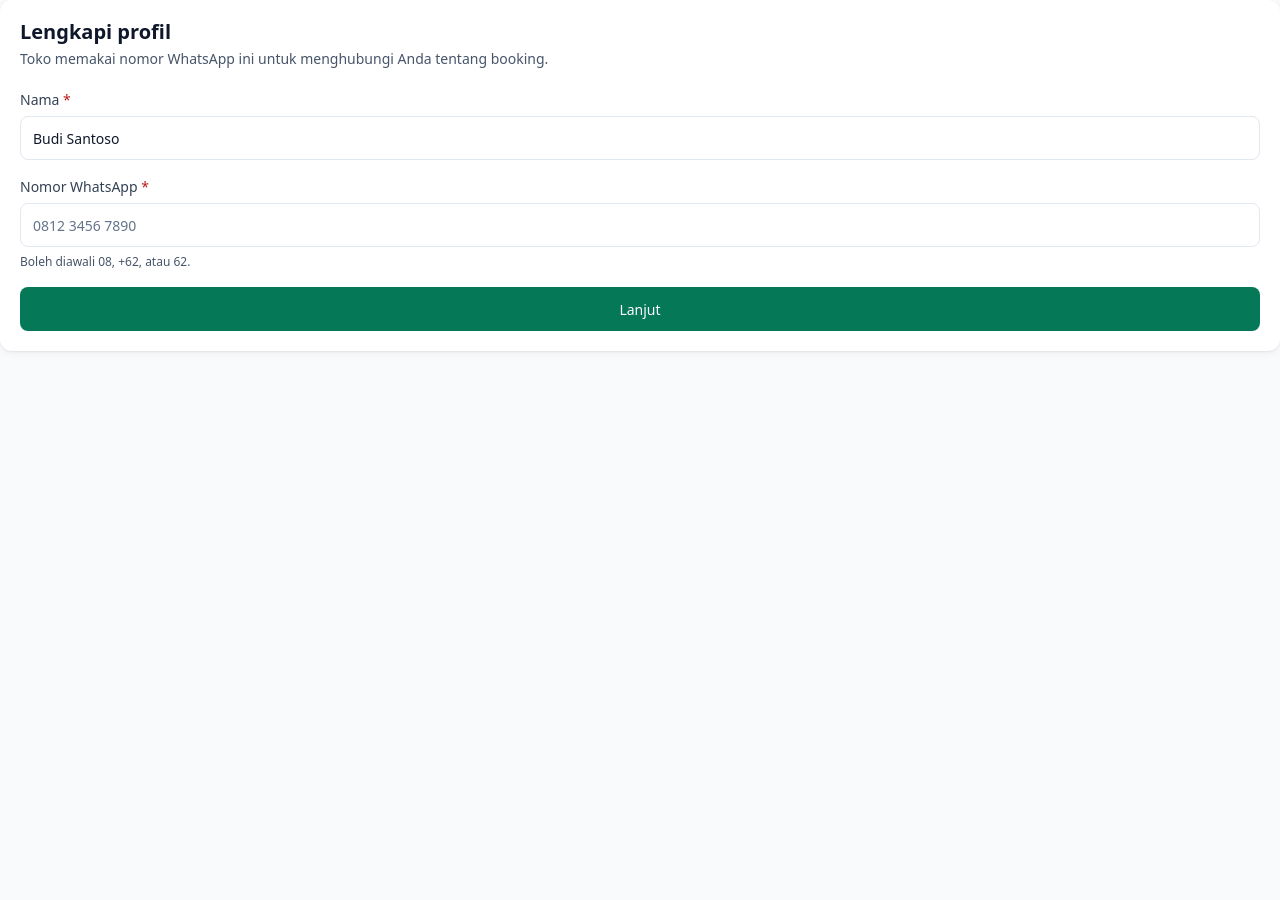
Scenario: lengkapi profil › nomor dipakai akun lain menampilkan peringatan dengan tombol WhatsApp toko
Expected: the field labelled "Nama *" holds "Budi Santoso", [20, 116, 1260, 160]
Type "0812 0000 1001" into the field labelled "Nomor WhatsApp *" at point(640, 225), box [20, 203, 1260, 247]
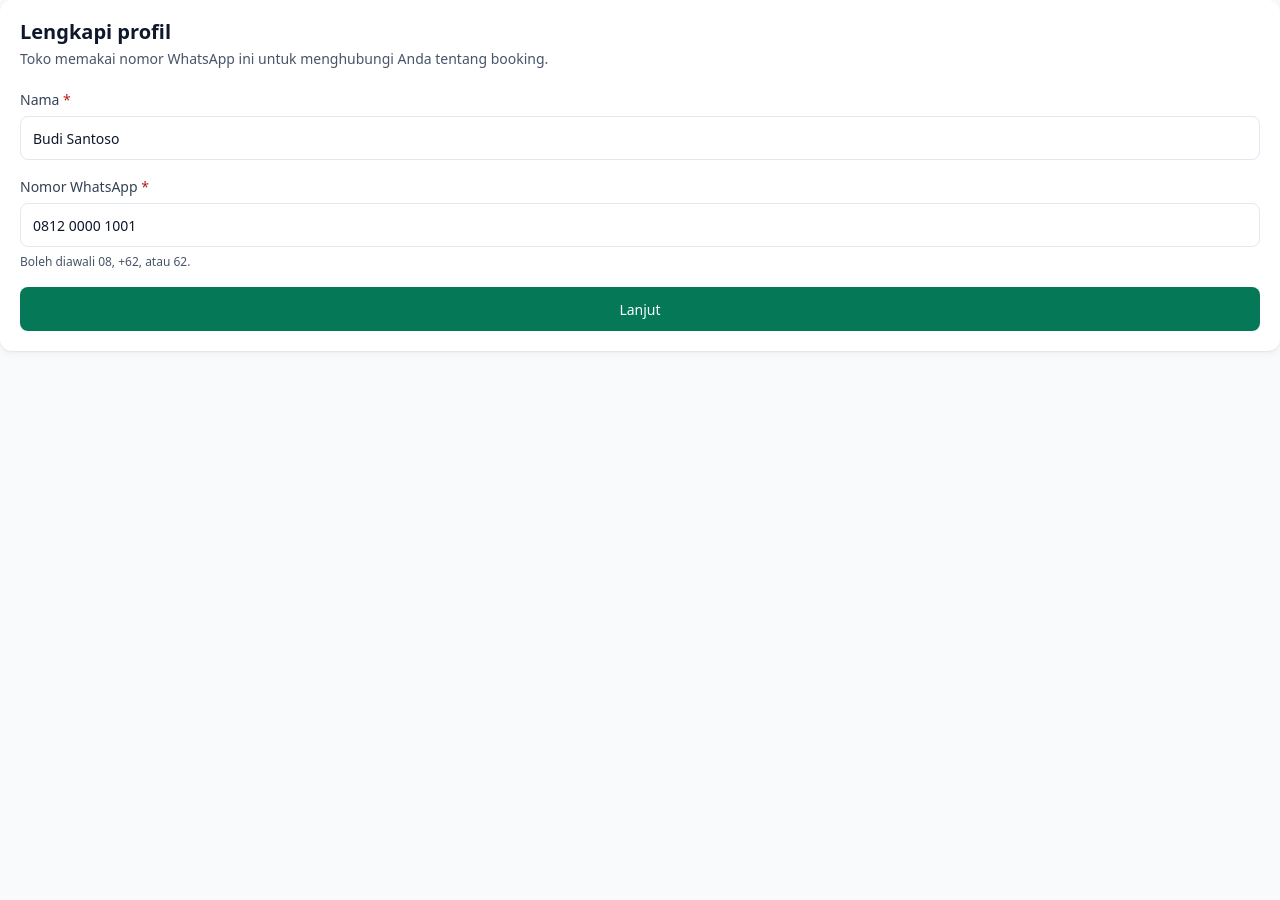
Click the button "Lanjut" at point(640, 309), box [20, 287, 1260, 331]
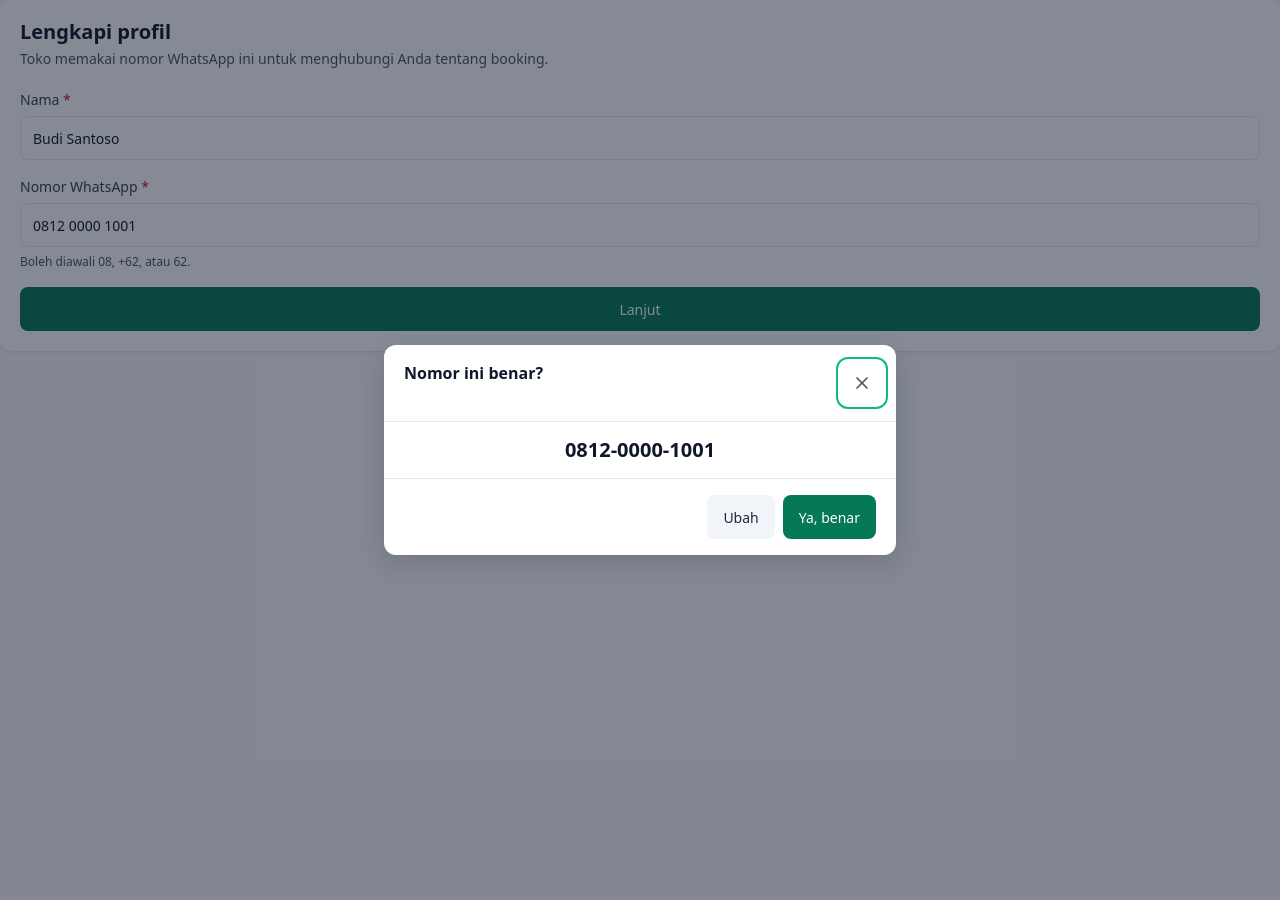
Expected: the heading "Nomor ini benar?" is shown, [404, 361, 543, 385]
Click the button "Ya, benar" at point(829, 517), box [783, 495, 876, 539]
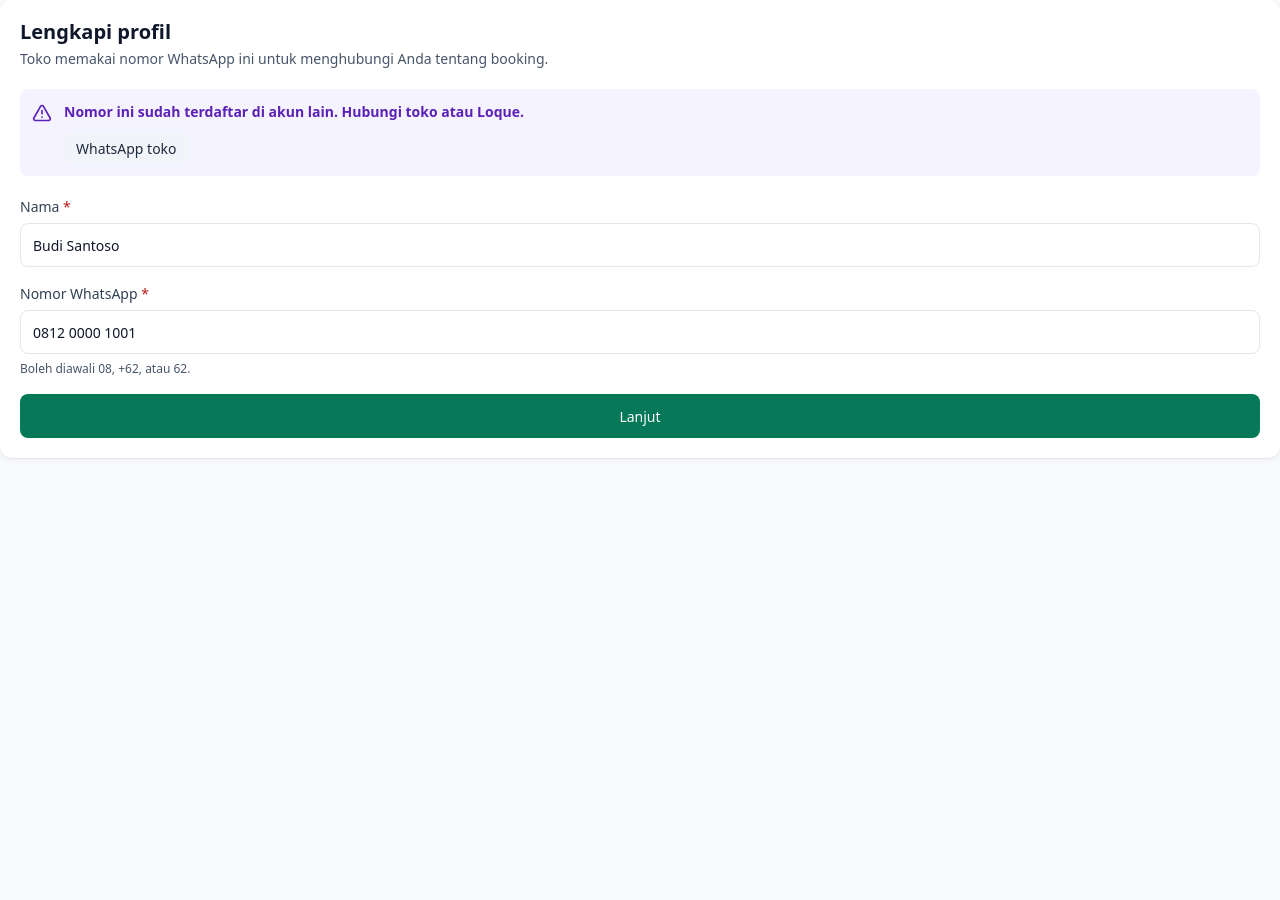
Expected: the text "Nomor ini sudah terdaftar di akun lain. Hubungi toko atau Loque." is shown, [64, 102, 524, 121]
Expected: the link "WhatsApp toko" is shown, [64, 132, 189, 164]
